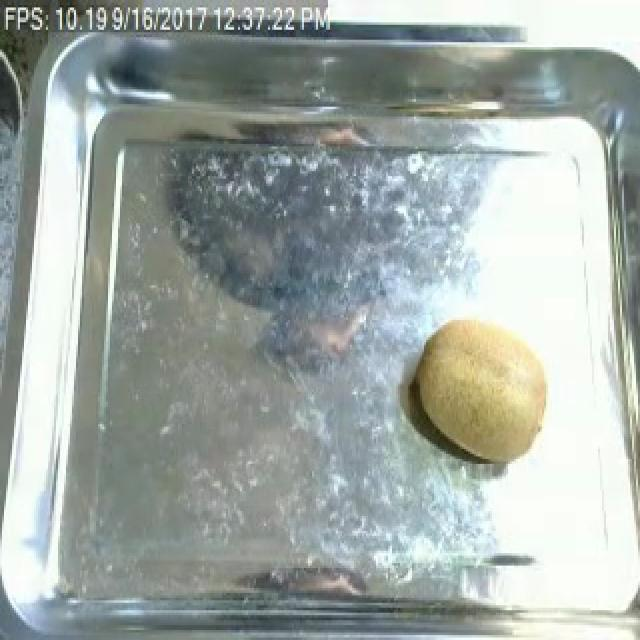Fruit: (408, 308, 558, 471)
